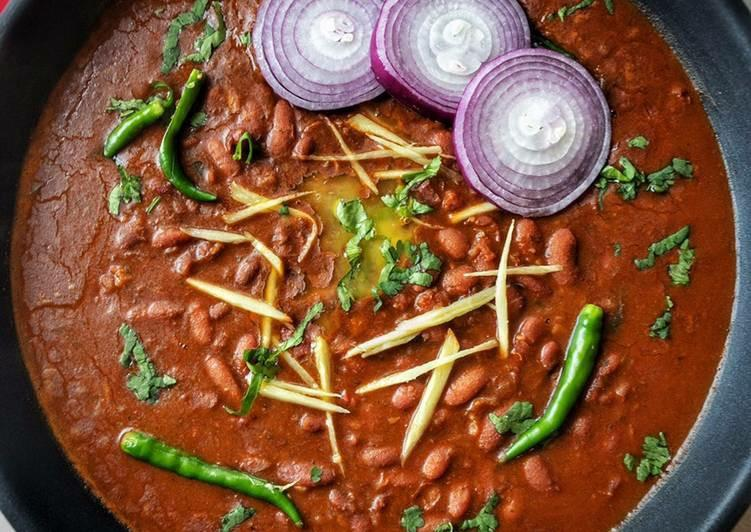RajmaCurry: (8, 0, 737, 532)
